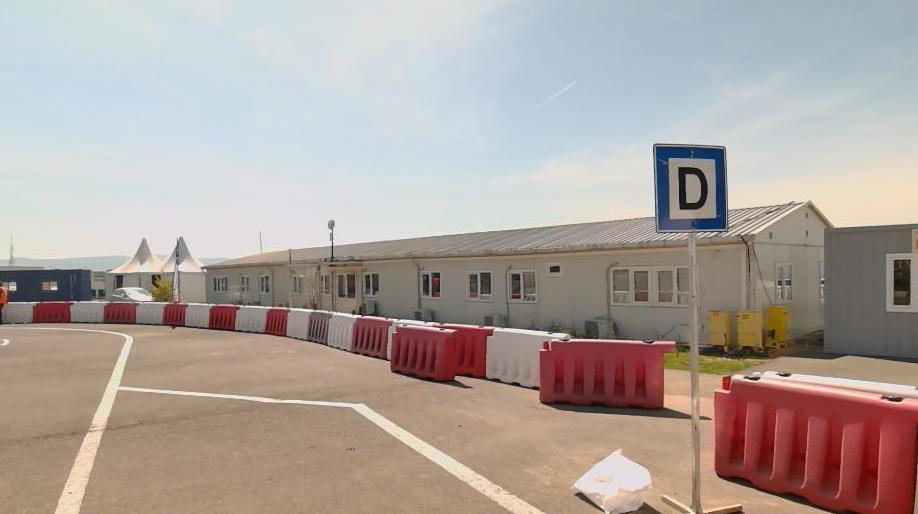nesne: (52, 379, 551, 513), (121, 386, 548, 514), (714, 373, 917, 514), (0, 338, 133, 512), (659, 236, 742, 513), (52, 339, 133, 514), (539, 338, 676, 412), (652, 142, 730, 234), (571, 449, 652, 514), (484, 327, 570, 388), (389, 324, 454, 382), (434, 321, 492, 377), (353, 315, 393, 358), (327, 312, 360, 352), (32, 300, 75, 322), (306, 310, 333, 345), (235, 305, 270, 331), (69, 300, 108, 323), (286, 308, 314, 339), (103, 300, 139, 323), (210, 304, 241, 330), (265, 306, 290, 337), (135, 301, 167, 325), (2, 301, 36, 323), (188, 302, 215, 328), (165, 301, 189, 326), (0, 281, 7, 322)
